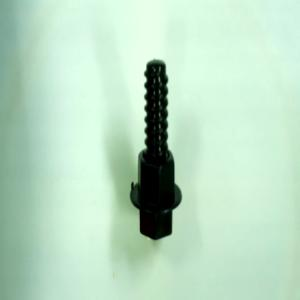parafuso: (130, 59, 183, 242), (130, 59, 183, 241)
